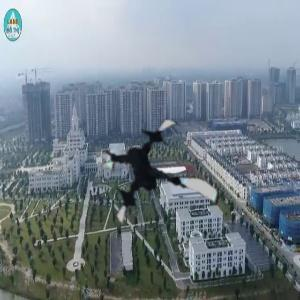drone: (96, 116, 225, 245)
